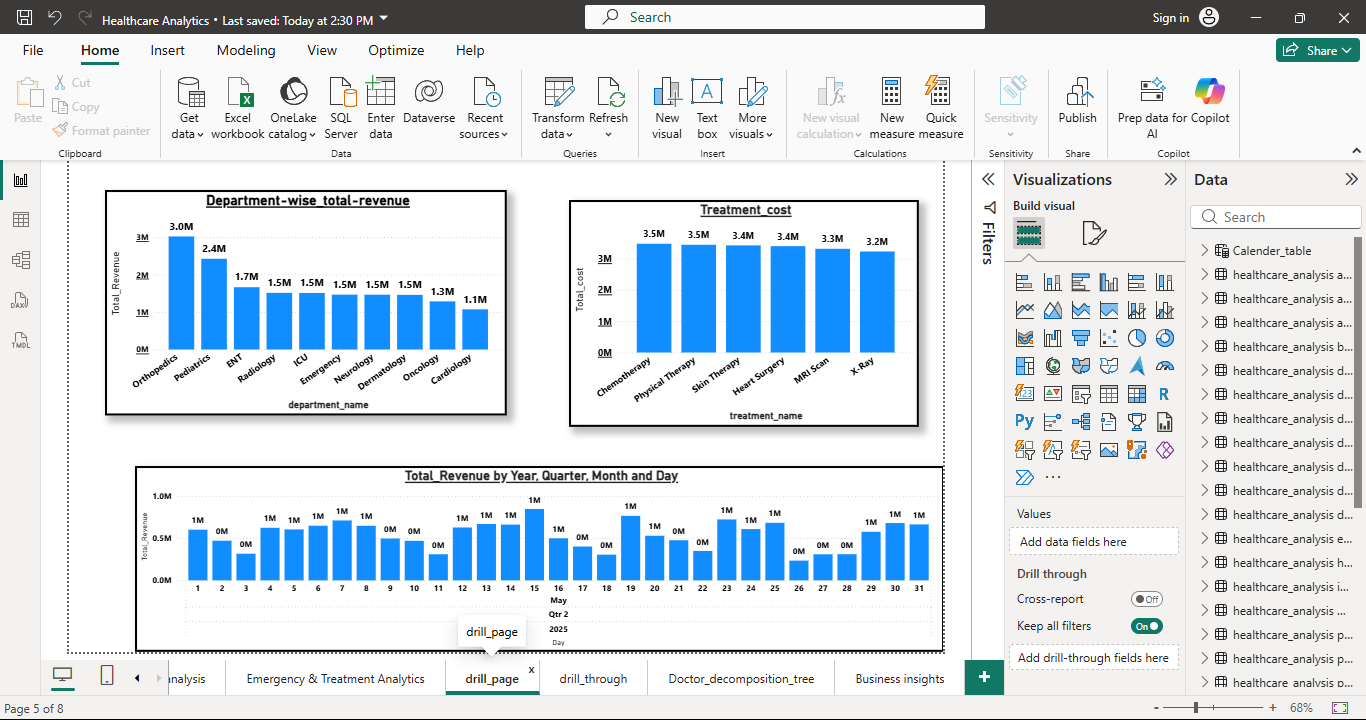

The dashboard page shown, as its layout file describes it:
{"tool":"powerbi","page":{"name":"drill_page","canvas":[1280,720],"ordinal":4},"visuals":[{"type":"clusteredColumnChart","fields":{"Y":["measure_box.Total_Revenue"],"Category":["Calender_table.Date.Variation.Date Hierarchy.Year","Calender_table.Date.Variation.Date Hierarchy.Quarter","Calender_table.Date.Variation.Date Hierarchy.Month","Calender_table.Date.Variation.Date Hierarchy.Day"]},"box":[96.2,448.5,1183.8,272.3],"z":0},{"type":"clusteredColumnChart","title":" Department-wise_total-revenue","fields":{"Category":["healthcare_analysis departments.department_name"],"Y":["measure_box.Total_Revenue"]},"box":[52.7,43.6,588.3,330.4],"z":1000},{"type":"clusteredColumnChart","title":"Treatment_cost","fields":{"Category":["healthcare_analysis treatments.treatment_name"],"Y":["Measure_Box2.Total_cost"]},"box":[731.7,58.5,512.2,332.2],"z":2000}]}

Visuals, with their boxes on the page's 1280x720 design canvas (x1, y1, x2, y2). These are canvas units, not pixel positions in the 1366x720 screenshot, which may show the page scaled, cropped or inside an application window:
clusteredColumnChart - measure_box.Total_Revenue x Calender_table.Date.Variation.Date Hierarchy.Year: [96,448,1280,721]
" Department-wise_total-revenue" clusteredColumnChart: [53,44,641,374]
"Treatment_cost" clusteredColumnChart: [732,58,1244,391]
